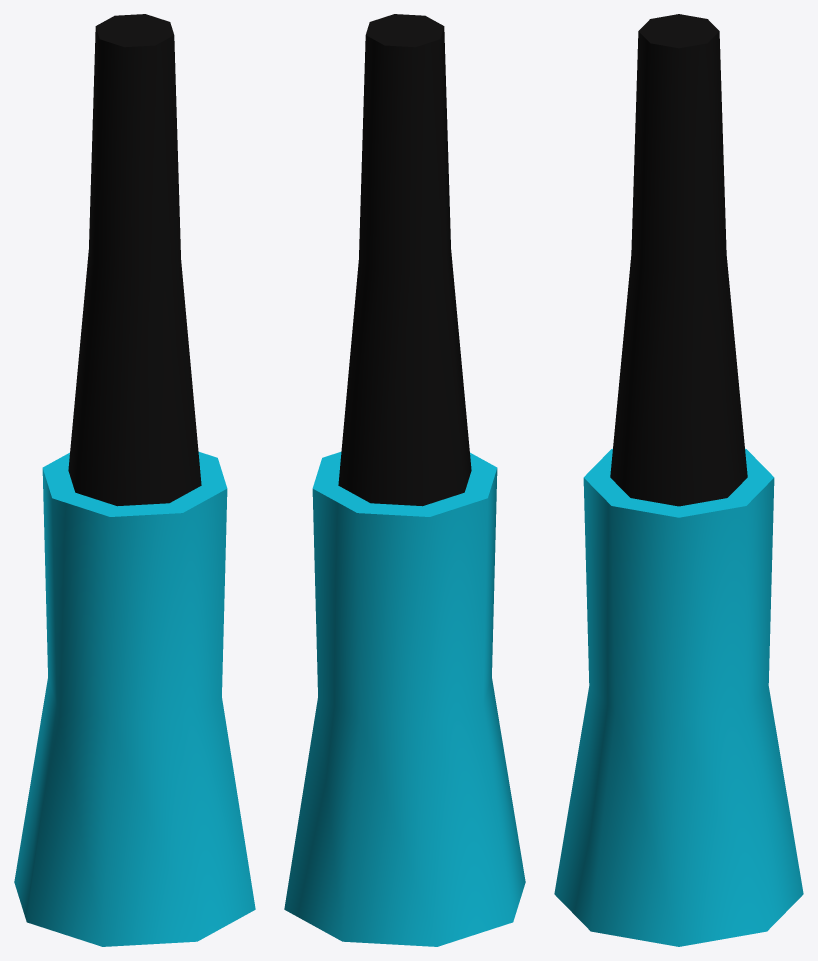
File: polish 3.fbx
3 views of the same model, side by side, from view 1: azimuth 30°, elevation 25°; view 2: azimuth 150°, elevation 25°; view 3: azimuth 270°, elevation 25° (orthographic).
Parts seen in each view (by area): view 1: polish3; view 2: polish3; view 3: polish3.
Part boxes in pixels (box(x1,y1,x2,y2)): polish3: box(14, 14, 255, 946); polish3: box(284, 14, 525, 946); polish3: box(554, 14, 803, 946).
Size of the model in its own units: 0.1599 by 0.6109 by 0.1599.
